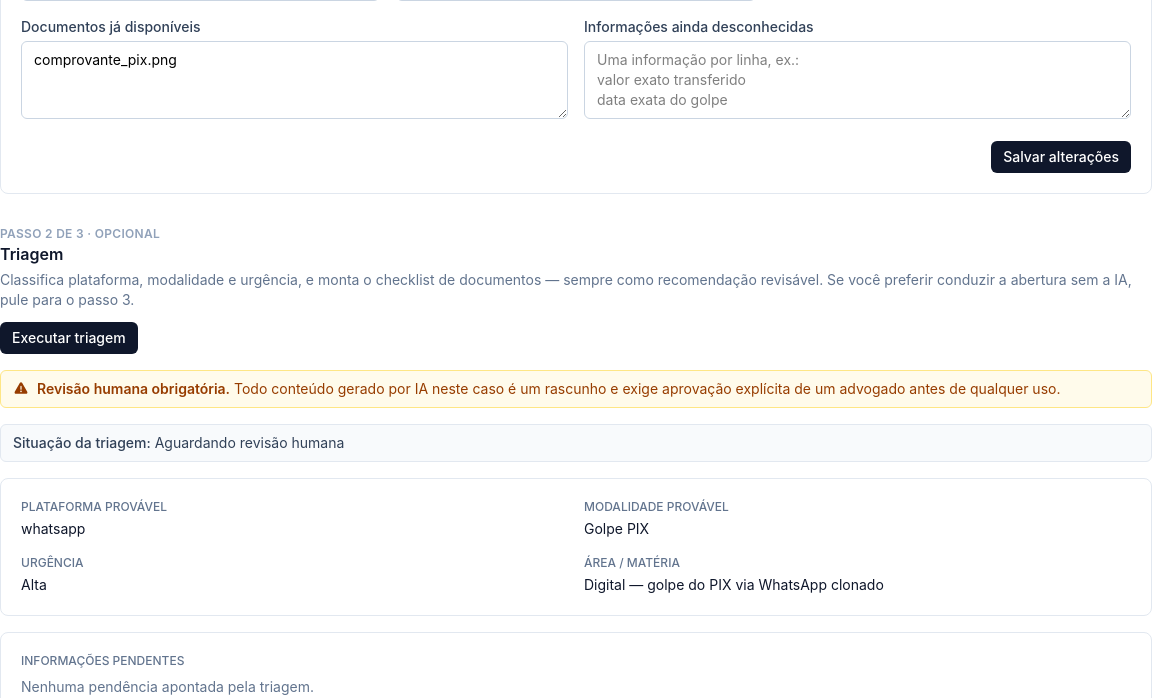
Scenario: CaseIntakePage — falha › mostra erro ao executar a triagem sem interromper a tela
(page scrolled)
Click the button "Executar triagem".
click(69, 338)  # box [0, 322, 138, 354]
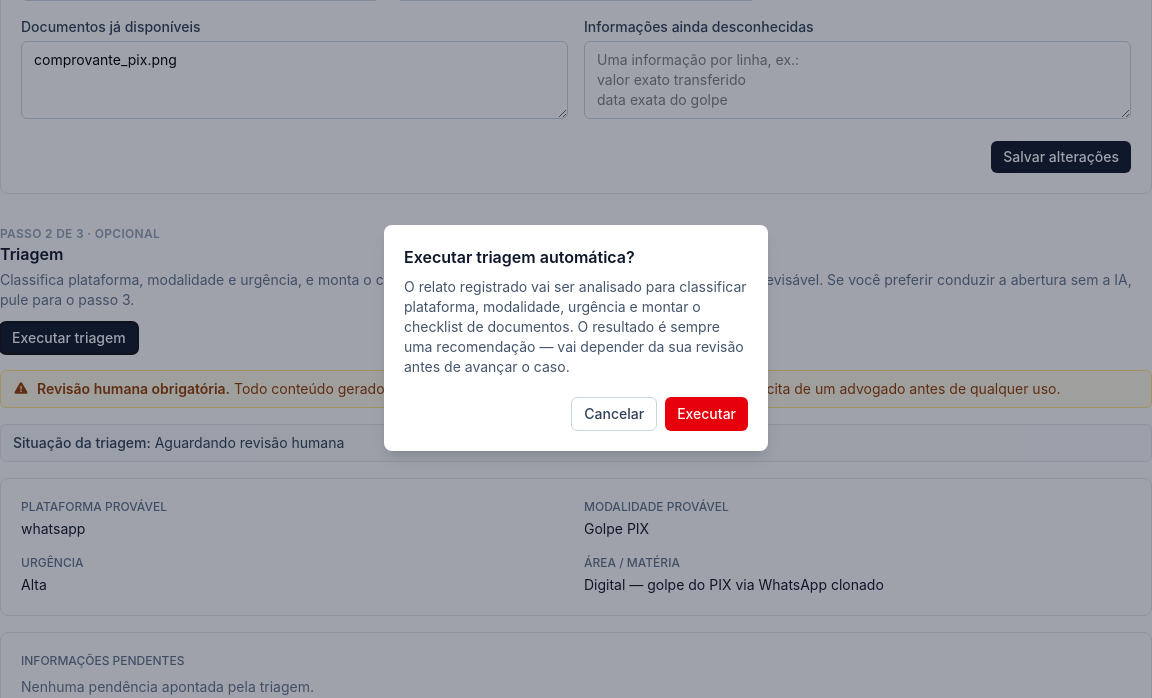
Click the button "Executar".
click(707, 414)  # box [665, 397, 748, 431]
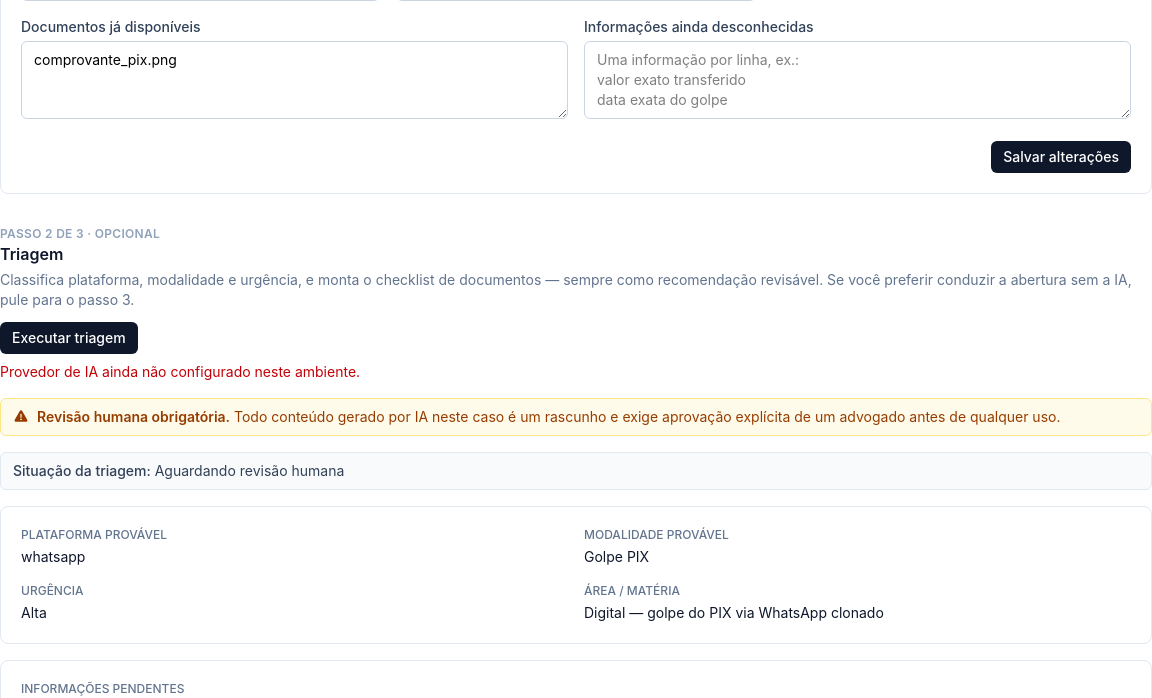
Result: the text "Provedor de IA ainda não configurado neste ambiente." is shown at [0, 362, 360, 382]
